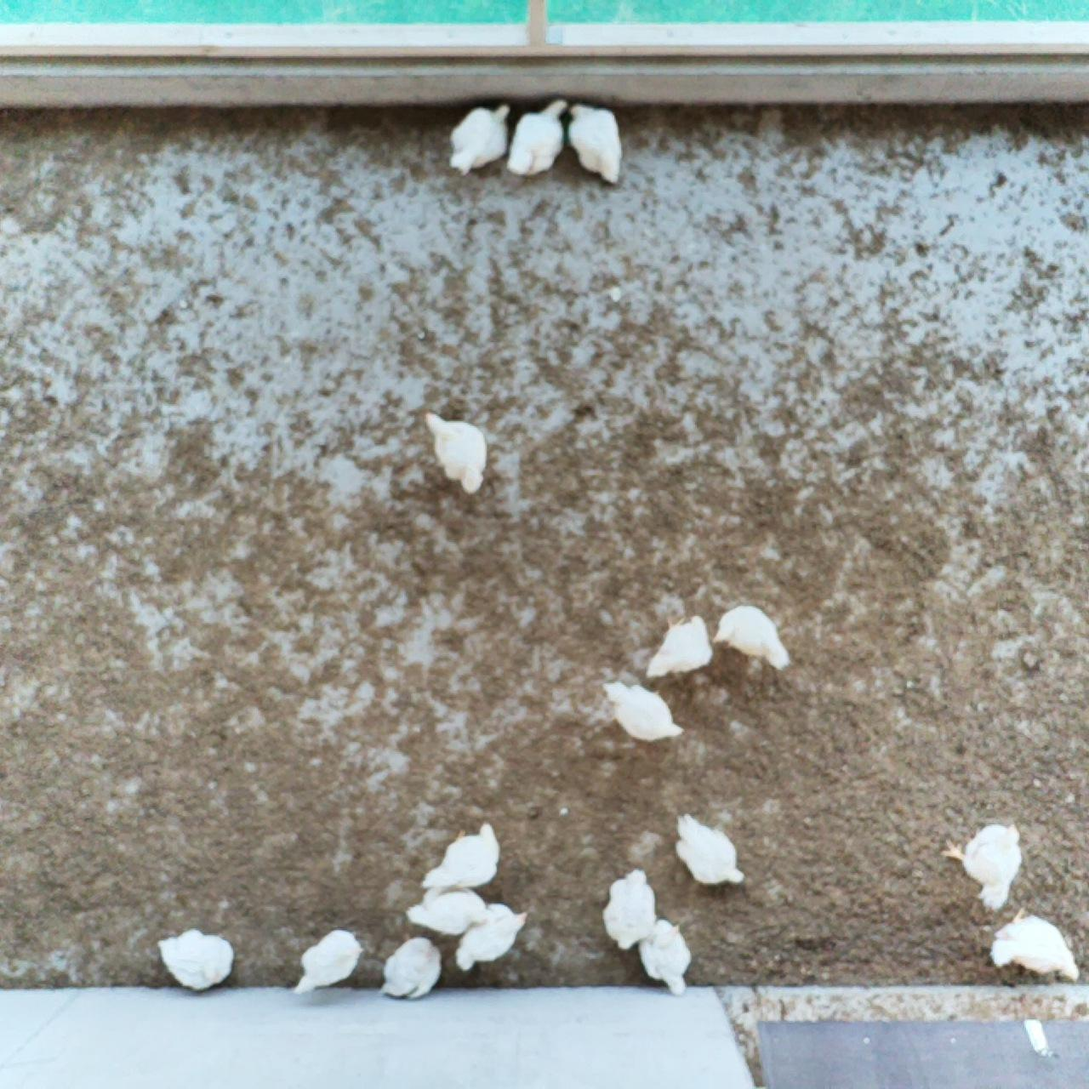chicken: (990, 906, 1083, 985), (947, 820, 1025, 911), (421, 821, 502, 894), (423, 409, 487, 494), (713, 604, 793, 670), (674, 812, 747, 884), (456, 903, 531, 971), (602, 680, 683, 741), (509, 100, 570, 177), (638, 915, 693, 999), (159, 929, 234, 990), (647, 613, 715, 680), (294, 928, 362, 994), (571, 103, 624, 185), (405, 885, 491, 935), (448, 105, 513, 170), (603, 869, 654, 948), (381, 937, 444, 998)
